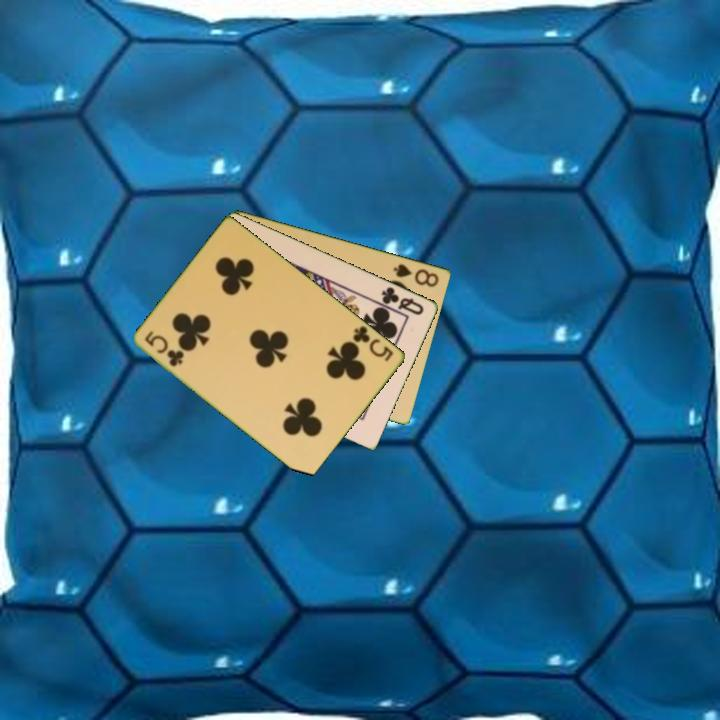5c: (349, 322, 397, 364), (141, 327, 187, 370)
8s: (390, 260, 442, 290)
Qc: (378, 283, 427, 318)
